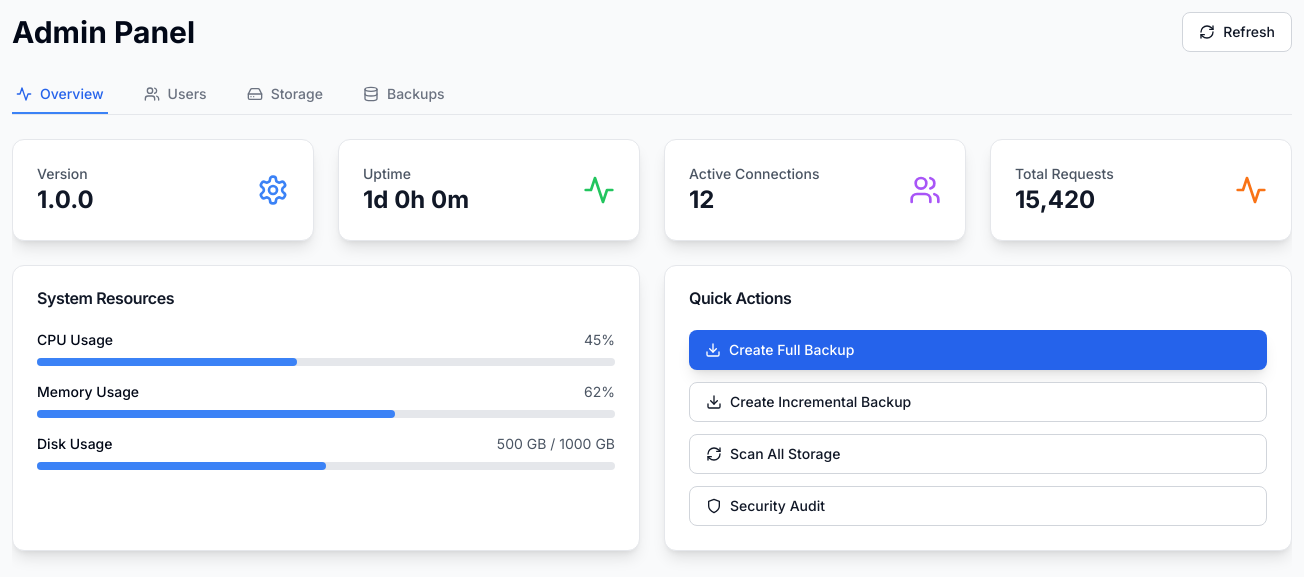
Test case: AdminPanel › switches to storage tab on click
Step 1. Click the button "Storage" → (285,95), box [243,76,327,114]
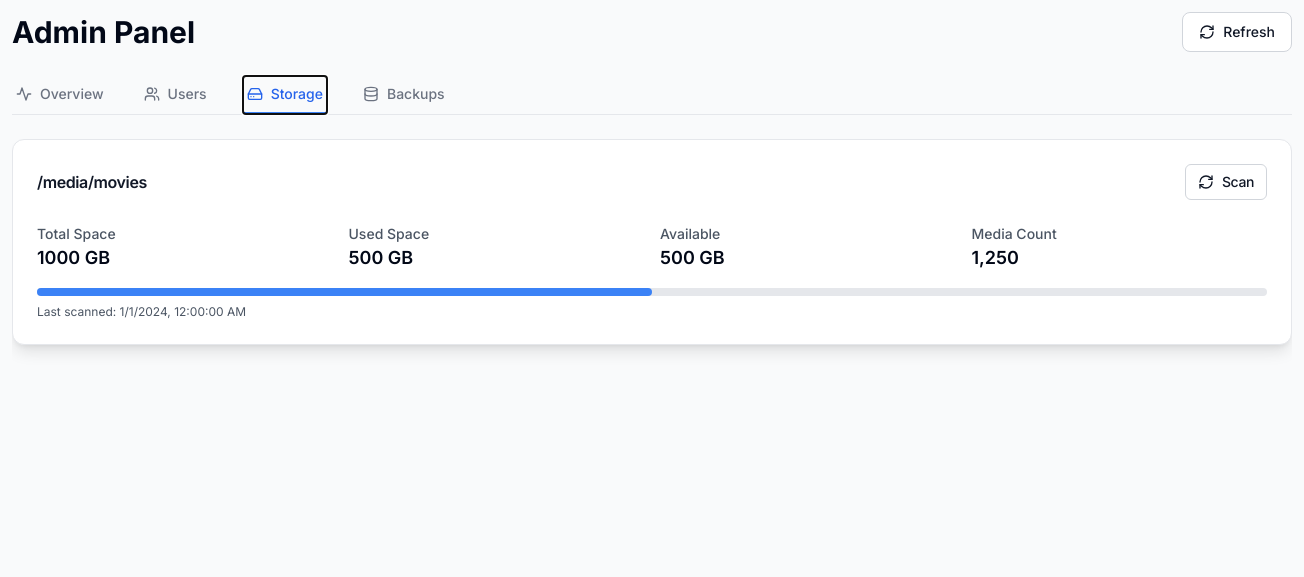
Check: the text "/media/movies" is shown, box [37,174,147,190]
Check: the text "1,250" is shown, box [972,247,1019,268]
